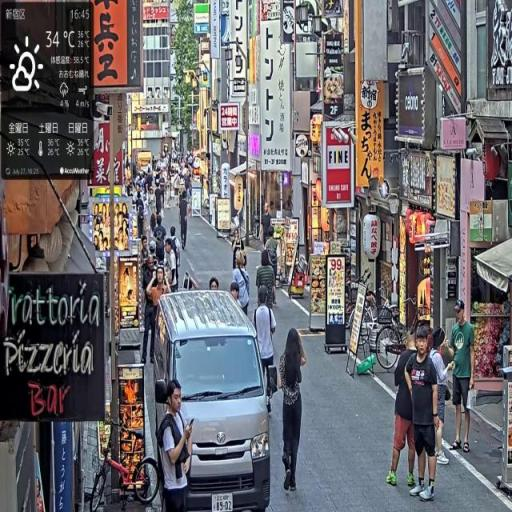person: (388, 322, 427, 493), (159, 377, 196, 512), (278, 328, 307, 494), (446, 301, 477, 455), (429, 327, 452, 468), (252, 289, 278, 411), (144, 264, 173, 367), (233, 251, 252, 316), (164, 239, 180, 295), (178, 184, 191, 251)
